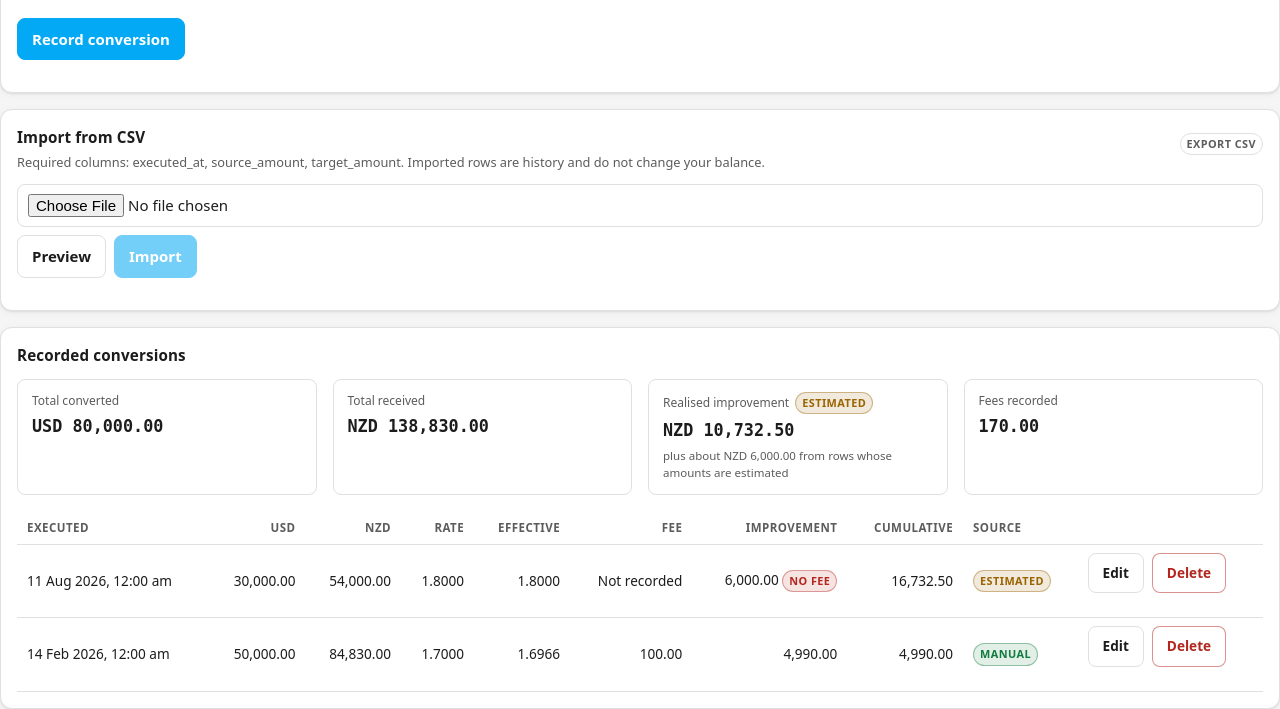
ConversionsPage › opens the edit dialog on the row that was clicked
(page scrolled)
Click the button "Edit" in the row of "14 Feb 2026, 12:00 am": (1116, 646) top-left (1088, 626), bottom-right (1144, 667)
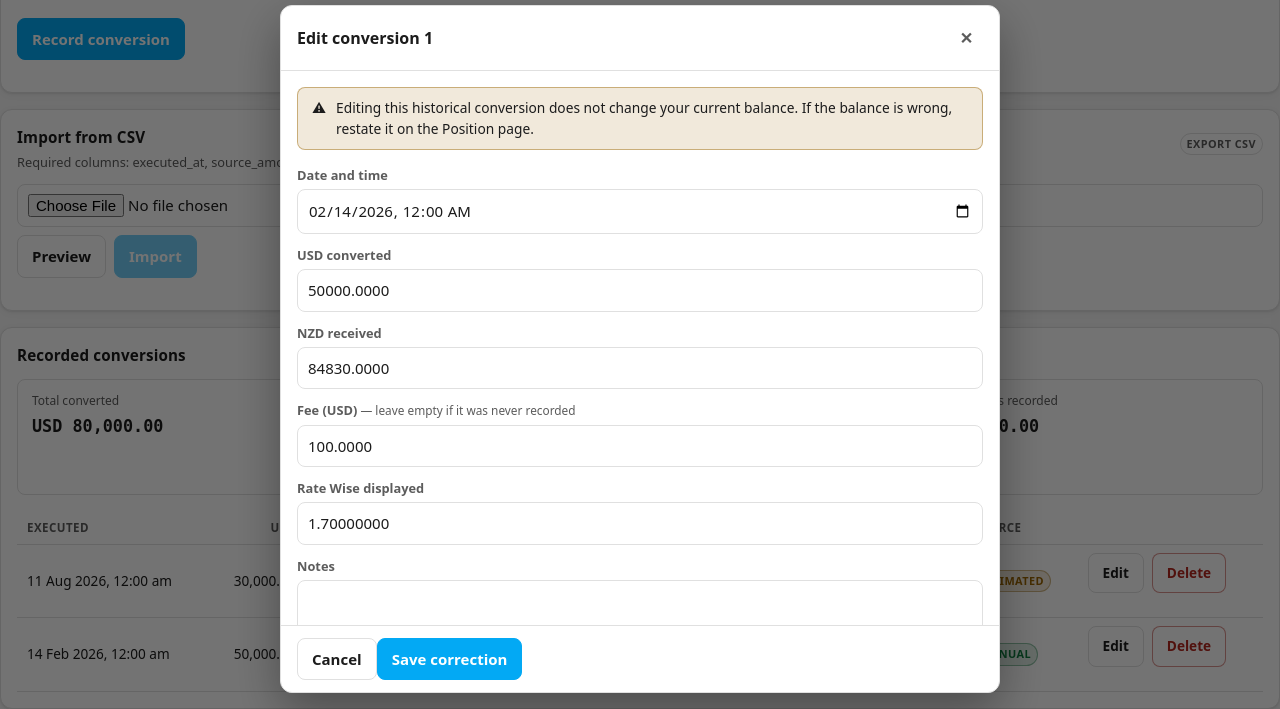
Check: the field labelled "USD converted" holds "50000.0000", box top-left (297, 269), bottom-right (983, 312)
